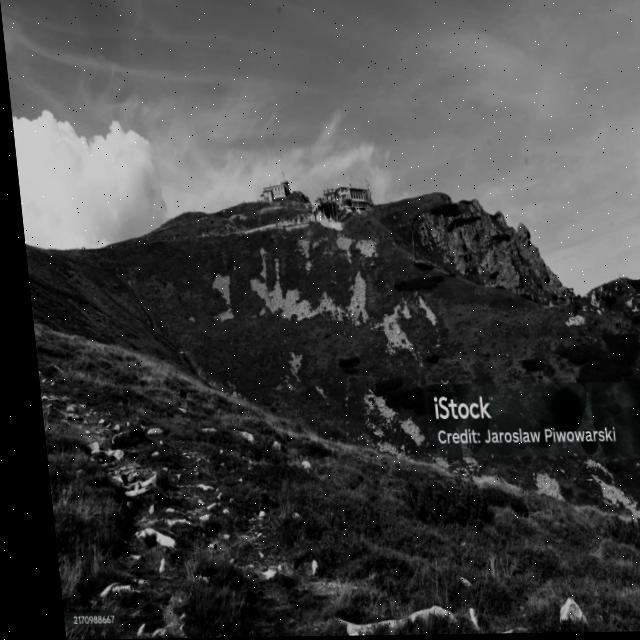Kasprowy Wierch: (199, 114, 358, 269)
